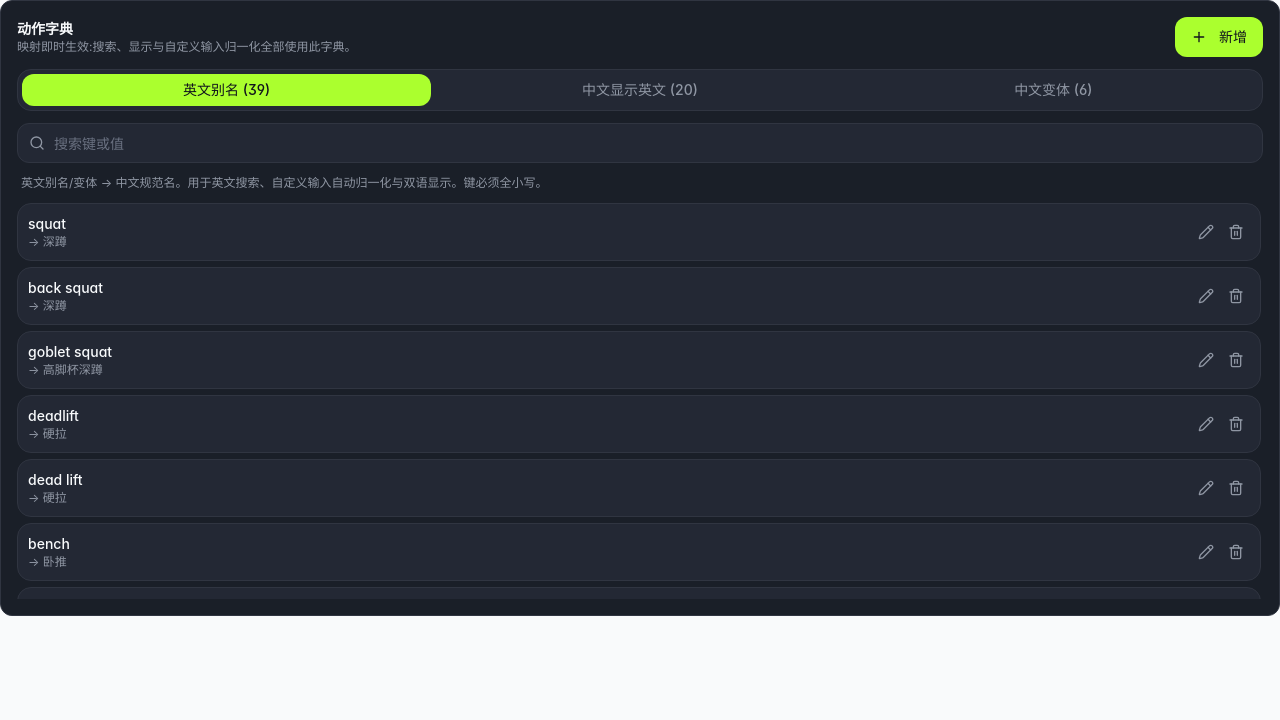
Test case: FitExerciseDict › 编辑条目(改键)→ update().eq(id),旧行不残留
The image size is (1280, 720).
Step 1. Click the button named "编辑 squat" → {"x": 1206, "y": 232}, box [1192,218,1220,246]
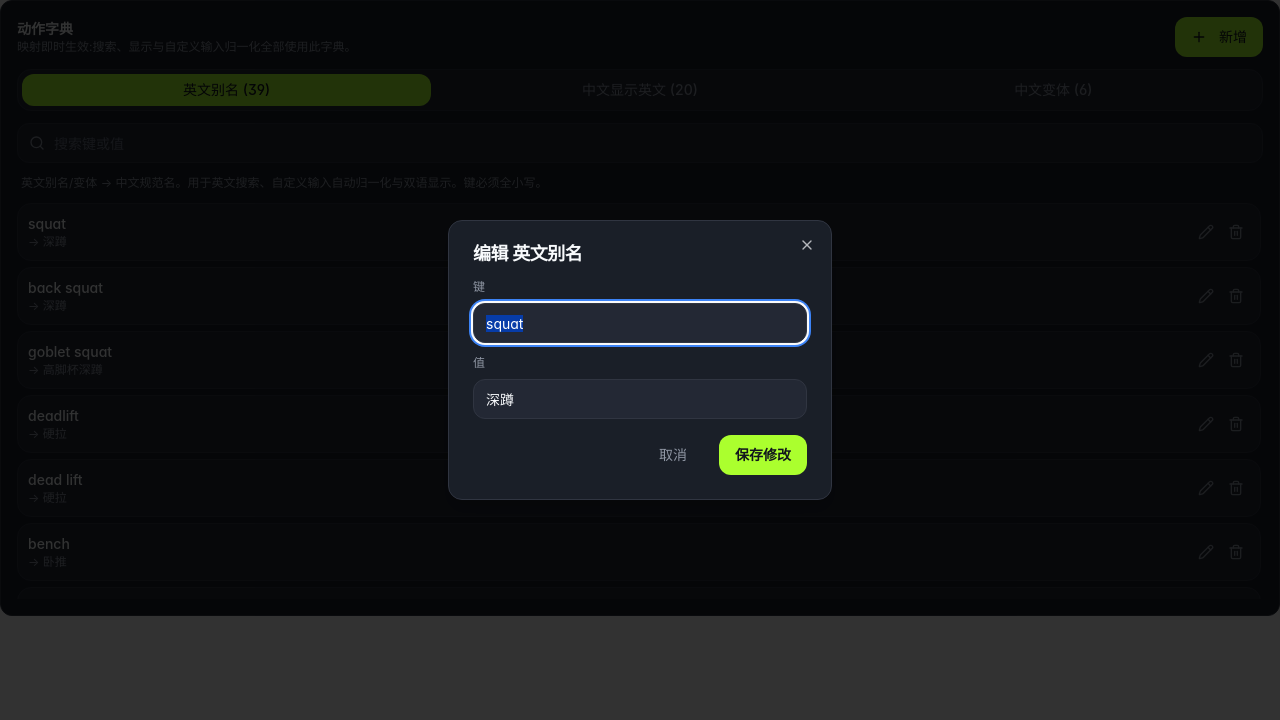
Result: the field named "键" holds "squat"
Step 2. Replace the text in the field named "键" with "deep squat" → {"x": 640, "y": 323}, box [473,303,807,343]
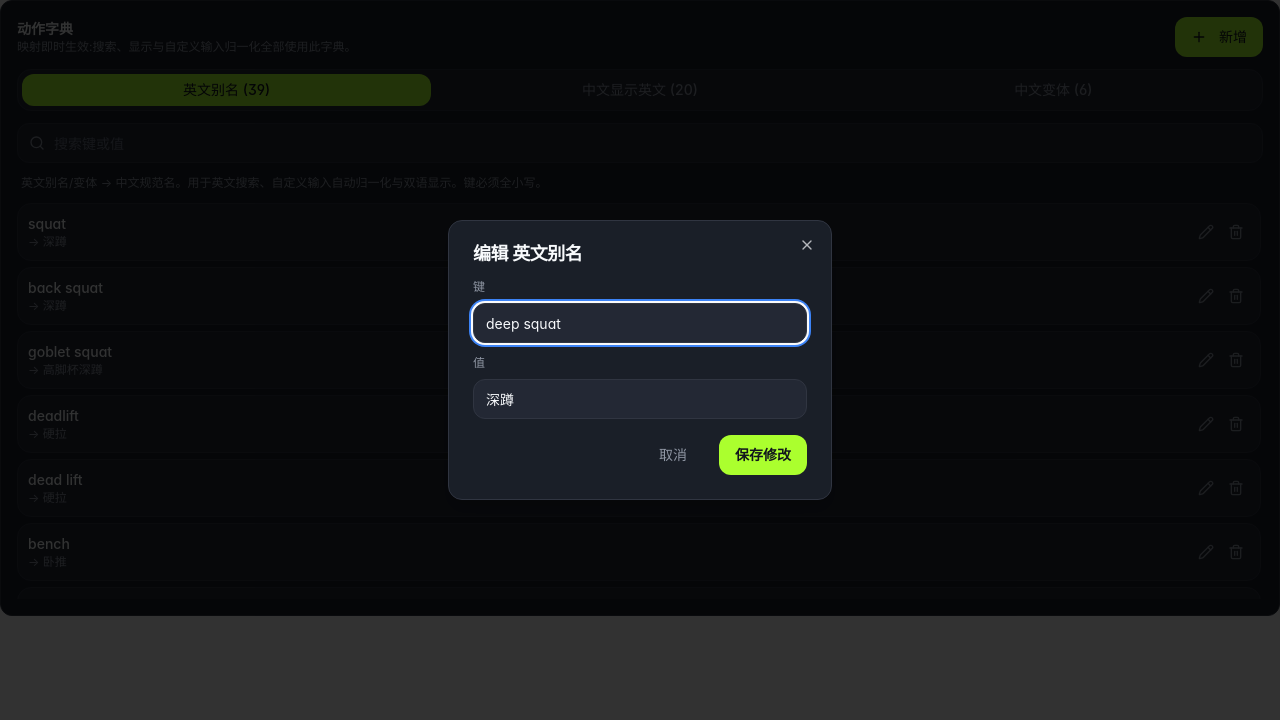
Step 3. Click the button "保存修改" → {"x": 763, "y": 455}, box [719,435,807,475]
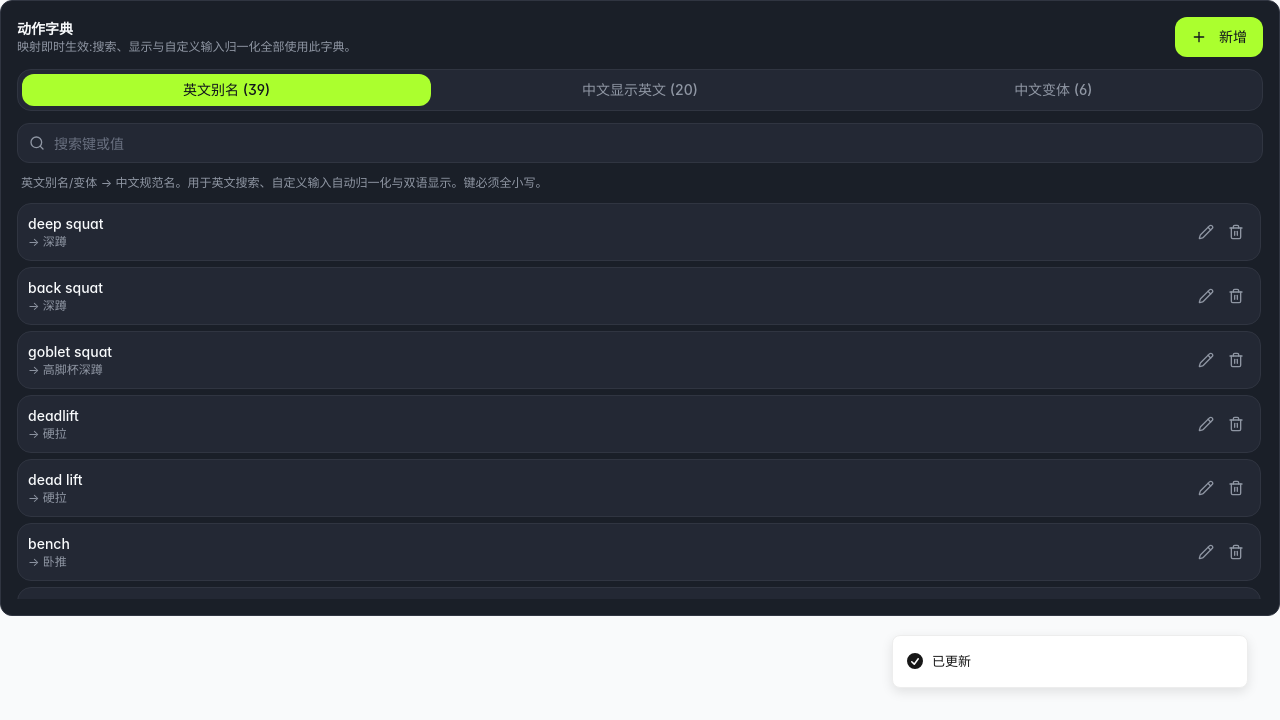
Result: the text "deep squat" is shown at [28,215,104,232]
